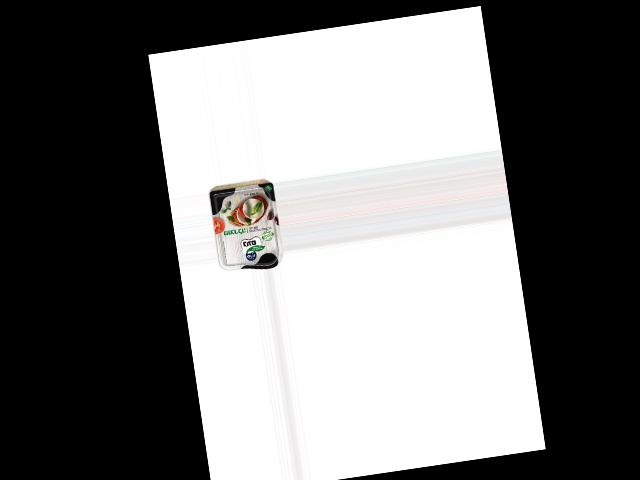cheese: (207, 181, 284, 274)
